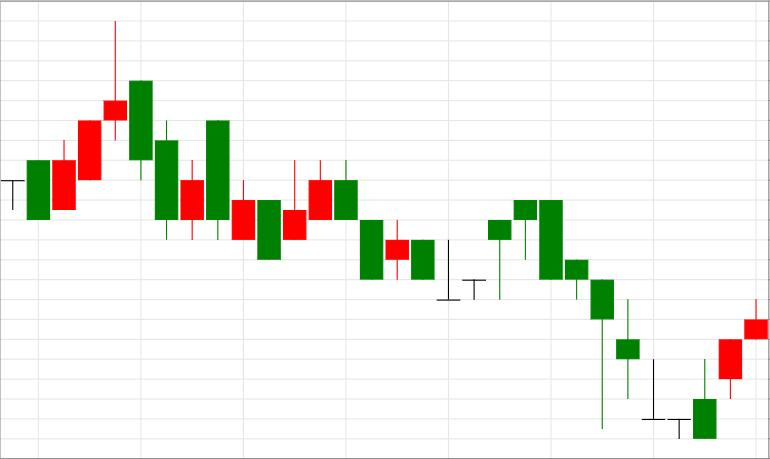shooting_star_fall: (1, 21, 127, 220)
